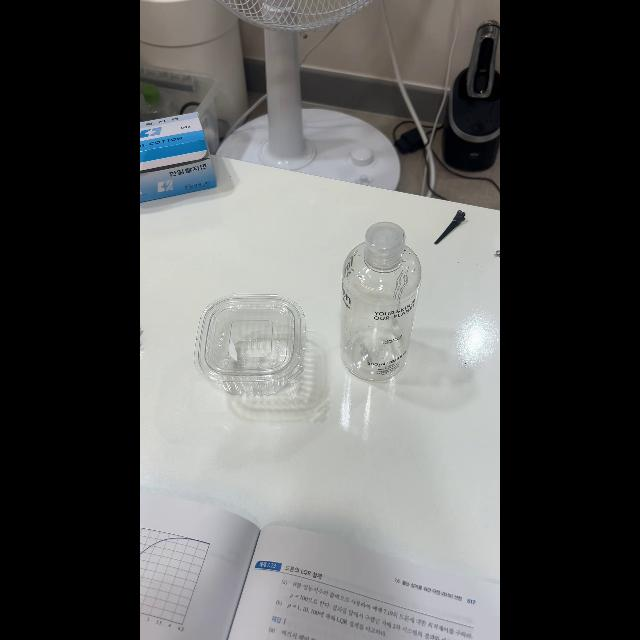clean: (339, 226, 423, 378), (198, 292, 308, 390)
